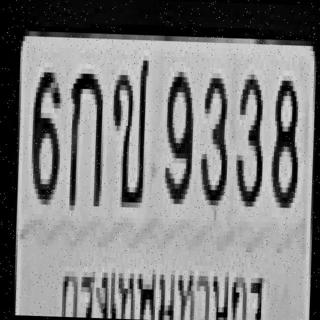A01: (65, 63, 104, 206)
A10: (108, 54, 147, 202)
N03: (233, 68, 264, 202), (198, 67, 228, 200)
N06: (28, 67, 61, 200)
N08: (268, 75, 299, 203)
N09: (162, 66, 193, 199)
P04: (54, 258, 269, 320)
